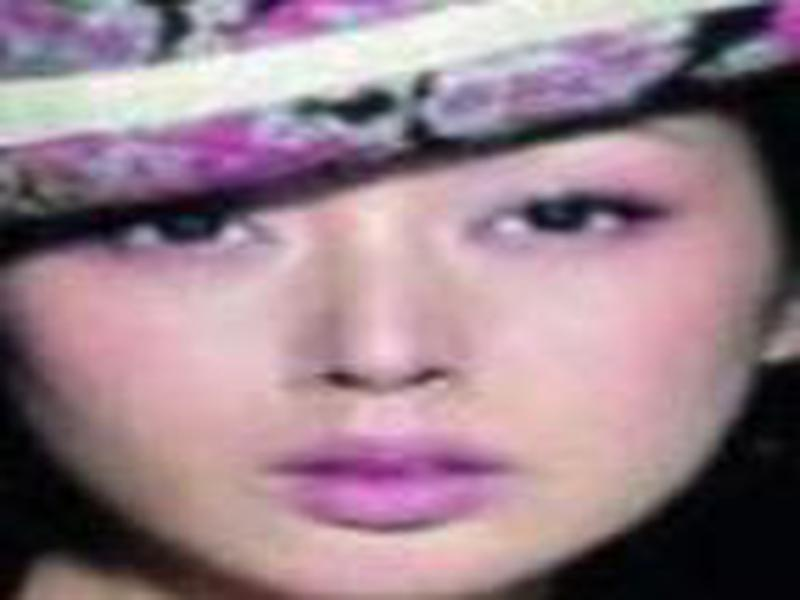without_mask: (2, 112, 753, 597)
